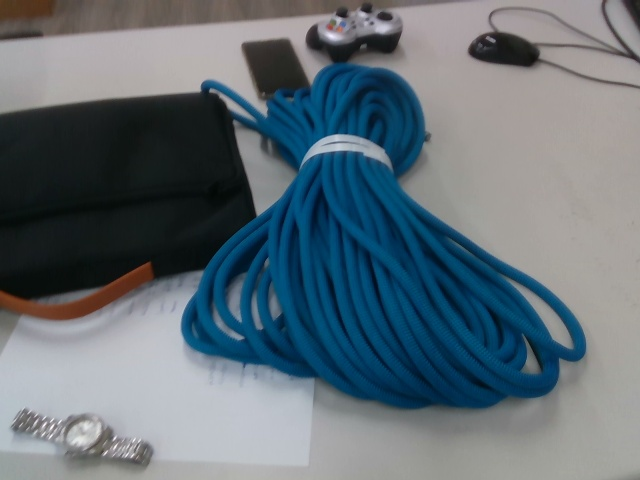rope: (177, 61, 593, 411)
